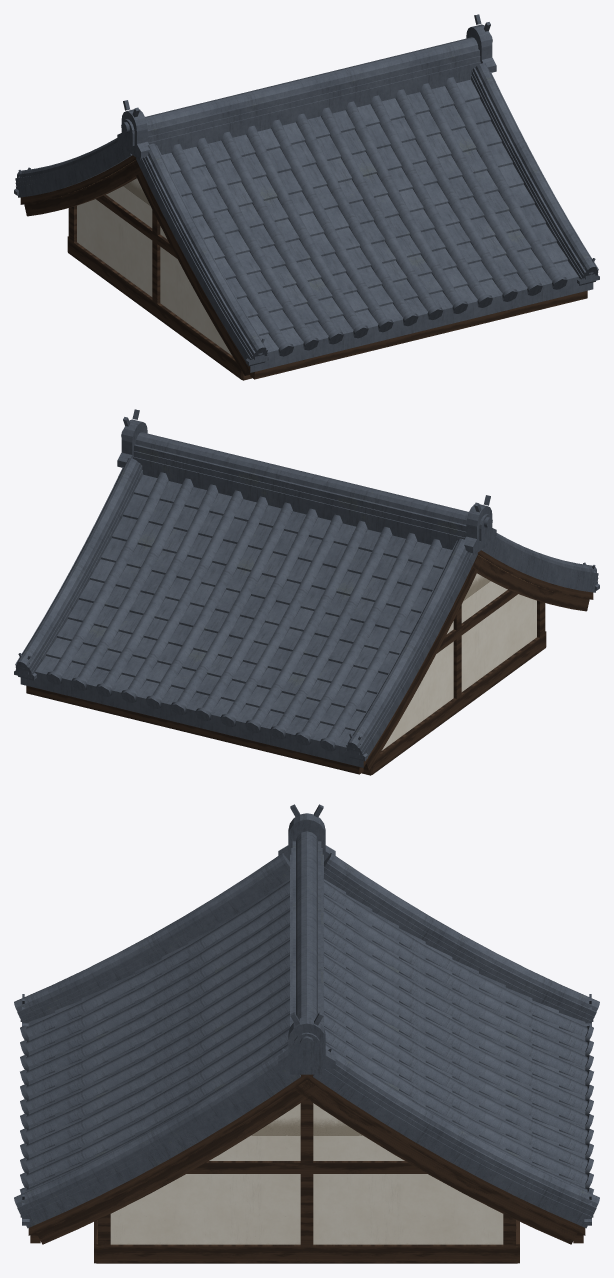
Rendered from HO_Roof_Kirizuma_Small.fbx.
3 renders of one model, top to bottom at view 1: azimuth 30°, elevation 25°; view 2: azimuth 150°, elevation 25°; view 3: azimuth 270°, elevation 25°, orthographic. The views are drawn at different scales.
Parts seen in each view (by area): view 1: HO_Roof_Kirizuma_Small_Tiles, HO_Roof_Kirizuma_Small_Frame; view 2: HO_Roof_Kirizuma_Small_Tiles, HO_Roof_Kirizuma_Small_Frame; view 3: HO_Roof_Kirizuma_Small_Tiles, HO_Roof_Kirizuma_Small_Frame.
Part boxes in pixels (x1=…): HO_Roof_Kirizuma_Small_Tiles: x1=14, y1=14, x2=599, y2=372; HO_Roof_Kirizuma_Small_Frame: x1=20, y1=155, x2=587, y2=380; HO_Roof_Kirizuma_Small_Tiles: x1=14, y1=409, x2=599, y2=767; HO_Roof_Kirizuma_Small_Frame: x1=26, y1=550, x2=593, y2=775; HO_Roof_Kirizuma_Small_Tiles: x1=14, y1=804, x2=599, y2=1228; HO_Roof_Kirizuma_Small_Frame: x1=28, y1=1074, x2=585, y2=1263.
Size of the model in its own units: 14.71 by 8.38 by 16.83.
